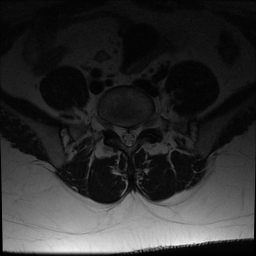CCS_normal: (124, 118, 133, 154)
LFS_normal: (140, 111, 148, 139)
LLS_normal: (132, 116, 140, 148)
RFS_normal: (109, 112, 117, 138)
RLS_normal: (117, 115, 125, 147)
